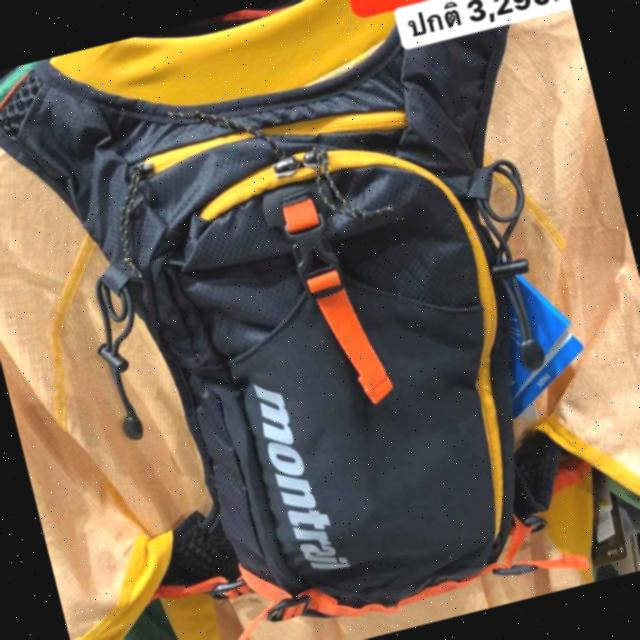handbag: (35, 33, 581, 640)
